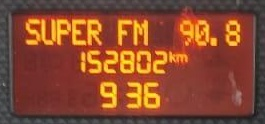-: (208, 35, 218, 46)
0: (193, 17, 208, 46), (135, 48, 151, 74)
1: (76, 49, 86, 73)
2: (151, 48, 166, 74), (102, 48, 117, 74)
3: (124, 79, 141, 109)
5: (86, 49, 102, 74)
6: (143, 79, 161, 109)
8: (223, 18, 241, 47), (119, 49, 134, 74)
9: (97, 79, 117, 109), (177, 17, 193, 46)
X: (131, 18, 149, 46), (70, 16, 86, 47), (115, 16, 132, 45), (23, 16, 39, 45), (40, 15, 55, 45), (55, 16, 70, 46), (87, 17, 102, 46), (175, 51, 188, 64), (167, 48, 175, 63)
